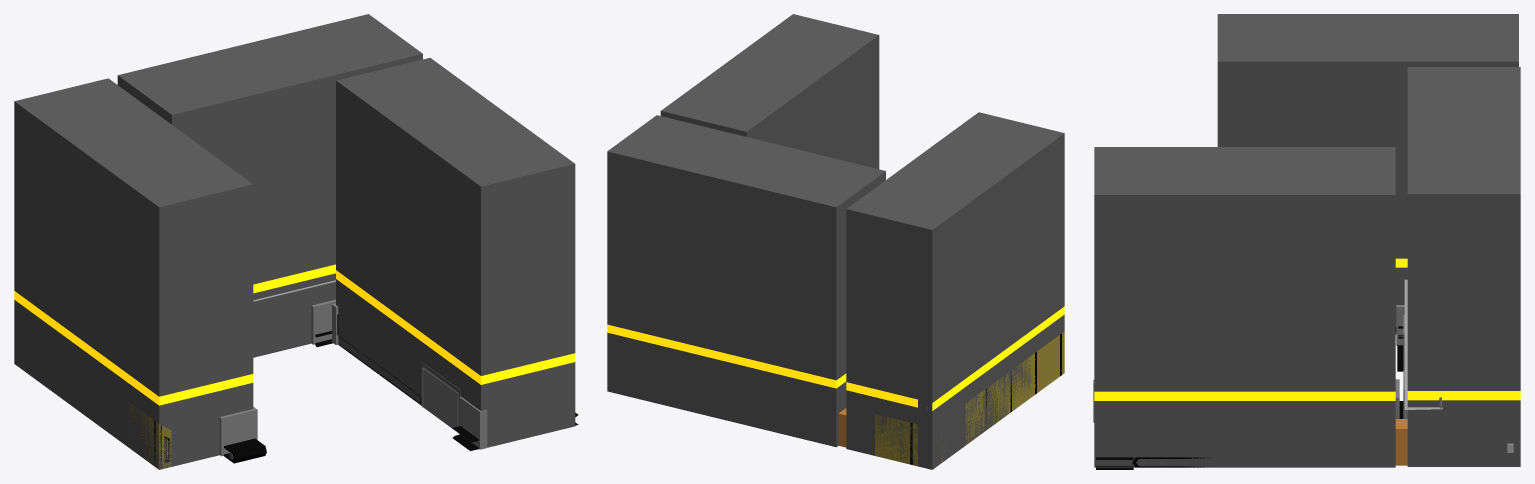
The model's file is Factory.fbx.
The picture shows the model from 3 angles, left to right: view 1: azimuth 30°, elevation 25°; view 2: azimuth 150°, elevation 25°; view 3: azimuth 270°, elevation 25°; orthographic projection. The views are drawn at different scales.
Visible parts, largest first — view 1: FactoryWalls.001, FactoryWalls.002, FactoryWalls.003, ShutterDoor, ConveyorHole.002, Locker, ConveyorHole.005, ConveyorHole.001, Conveyor.001; view 2: FactoryWalls.003, FactoryWalls.001, FactoryWalls.002, CornerPillar, Locker.005, Locker, Locker.001, Locker.002, Locker.003; view 3: FactoryWalls.002, FactoryWalls.003, FactoryWalls.001, Plane.001, DoorFrame.003.
Part boxes in pixels (x1,y1,x2,y2): FactoryWalls.001: (14, 78, 253, 469); FactoryWalls.002: (336, 58, 575, 447); FactoryWalls.003: (117, 14, 422, 357); ShutterDoor: (422, 366, 458, 433); ConveyorHole.002: (219, 407, 257, 456); Locker: (132, 405, 171, 469); ConveyorHole.005: (459, 396, 487, 449); ConveyorHole.001: (311, 299, 335, 344); Conveyor.001: (223, 438, 266, 463); FactoryWalls.003: (607, 115, 885, 447); FactoryWalls.001: (846, 112, 1064, 469); FactoryWalls.002: (660, 14, 879, 169); CornerPillar: (918, 220, 939, 469); Locker.005: (875, 414, 917, 466); Locker: (1040, 331, 1064, 390); Locker.001: (1015, 349, 1039, 409); Locker.002: (990, 369, 1014, 423); Locker.003: (965, 386, 990, 444); FactoryWalls.002: (1094, 147, 1395, 467); FactoryWalls.003: (1407, 67, 1520, 466); FactoryWalls.001: (1217, 14, 1518, 334); Plane.001: (1404, 279, 1442, 409); DoorFrame.003: (1395, 419, 1404, 465).
Bounding box in the file's own units: 3561 × 3406 × 2485.
16 materials, 2 textured.
